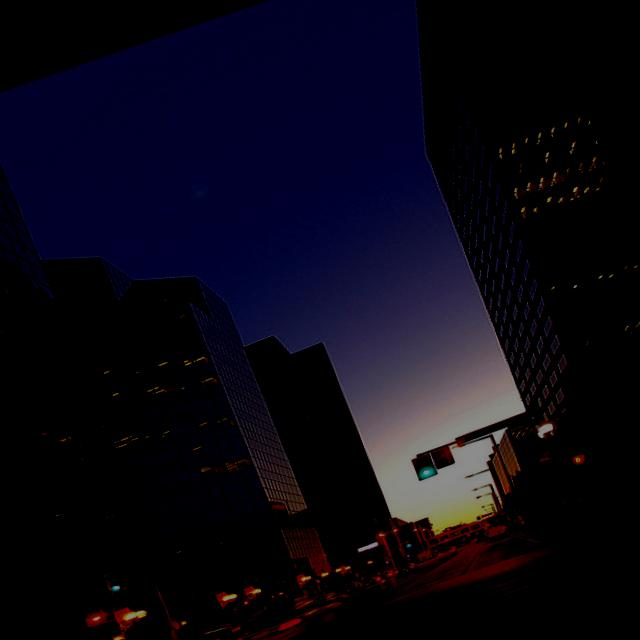Vehicle: (212, 588, 346, 640), (162, 619, 246, 640), (362, 566, 398, 587), (304, 589, 338, 610), (334, 576, 366, 598), (394, 558, 420, 577), (435, 542, 458, 560), (485, 523, 508, 540), (472, 530, 491, 544)
